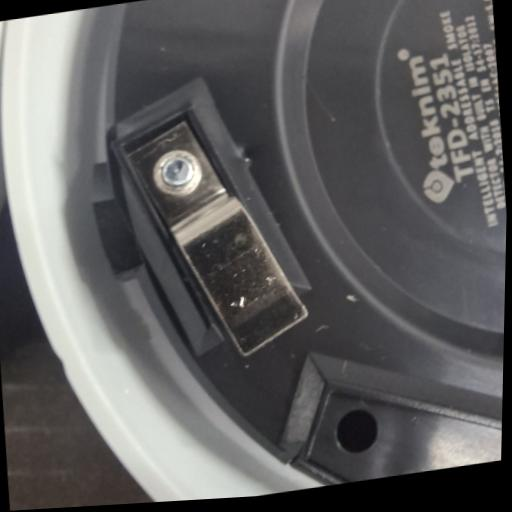yaysiz: (113, 97, 330, 390)
